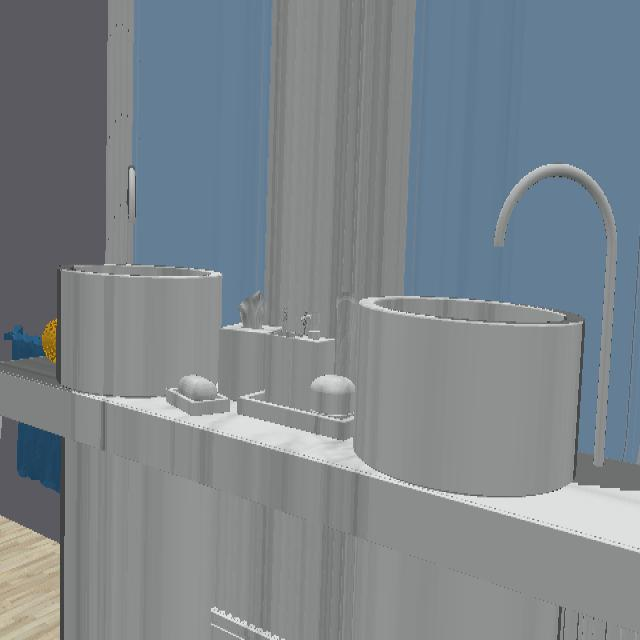washbasin: (350, 296, 585, 499), (492, 164, 618, 472), (58, 165, 223, 400)
